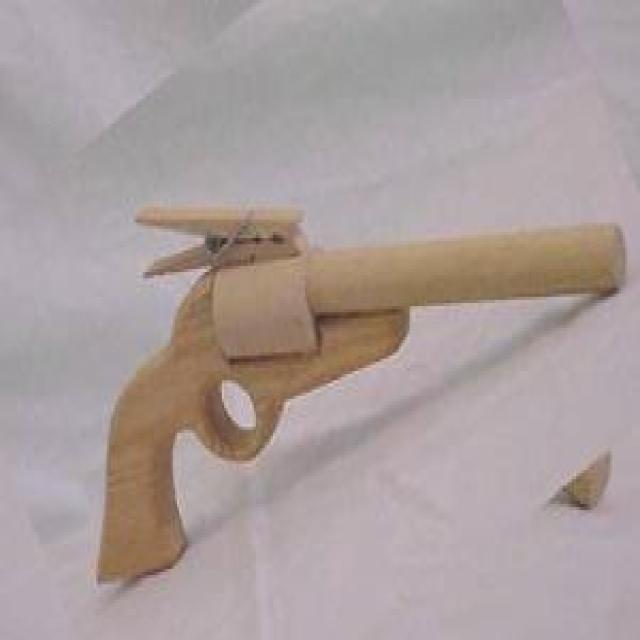gun: (79, 189, 627, 575)
